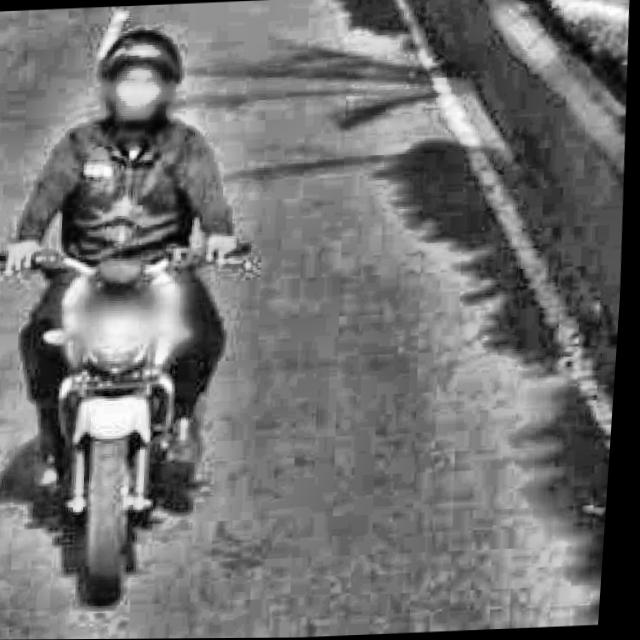motorcycle: (0, 207, 277, 629)
